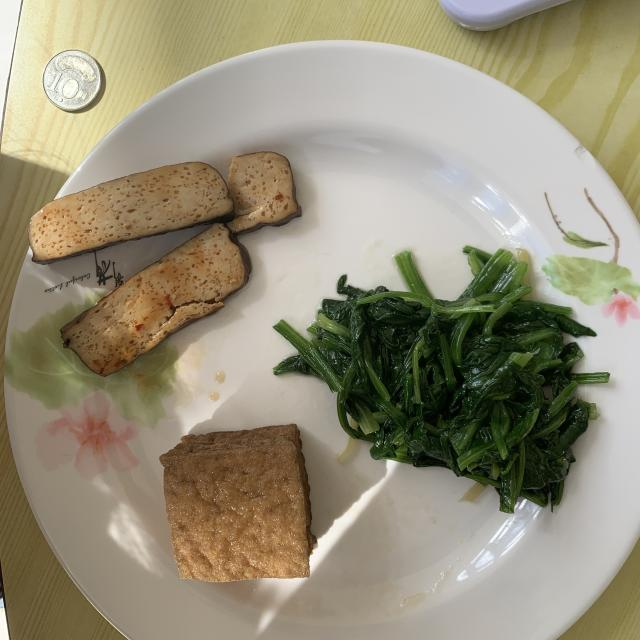coin: (42, 50, 101, 111)
egg tofu: (160, 424, 315, 582)
firm tofu: (30, 151, 301, 375)
mustard greens: (274, 246, 609, 514)
